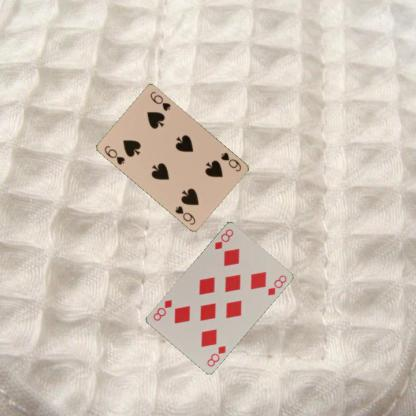6s: (102, 143, 127, 166), (218, 150, 243, 172)
8d: (212, 226, 235, 251), (205, 342, 227, 367)
